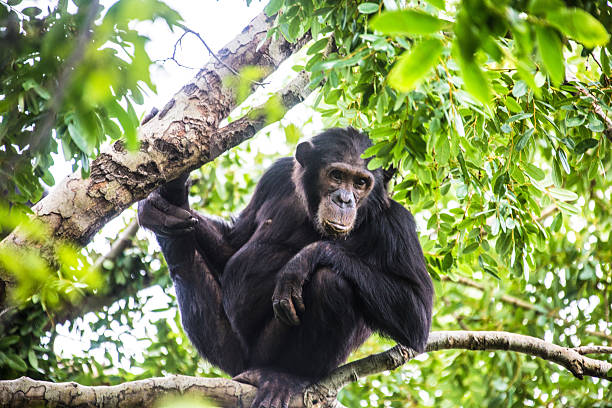chimpanzee: (288, 117, 399, 244)
